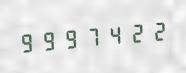four: (101, 19, 121, 50)
nine: (59, 22, 79, 54), (17, 26, 37, 57), (38, 24, 58, 55)
seven: (80, 21, 100, 52)
two: (122, 17, 142, 48), (143, 15, 163, 46)
